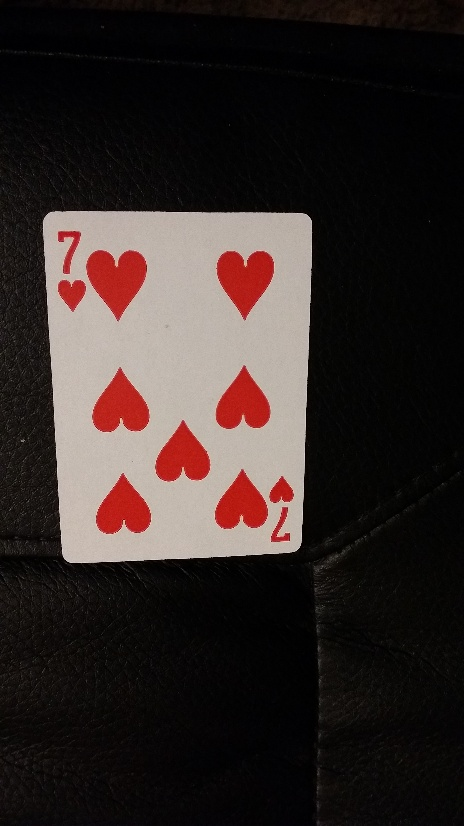H7: (50, 223, 89, 313), (267, 467, 299, 545)
